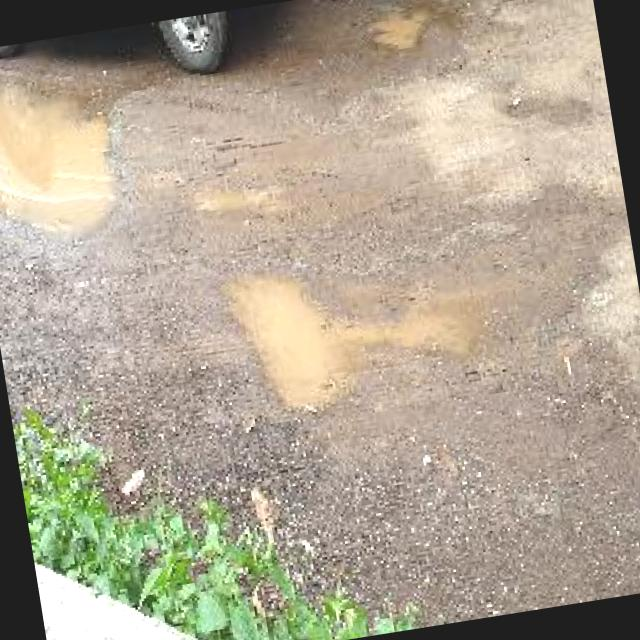stagnation: (214, 224, 520, 430), (0, 71, 135, 260)
